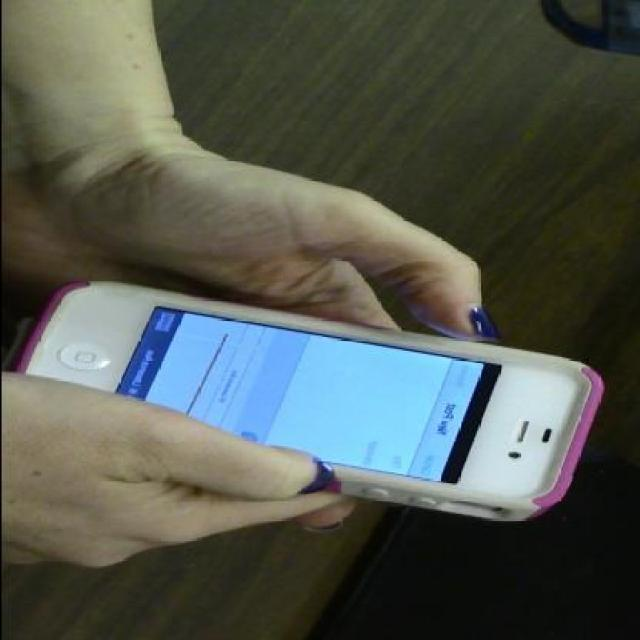phone: (10, 277, 602, 521)
